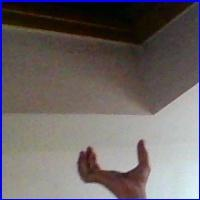space: (69, 137, 164, 196)
